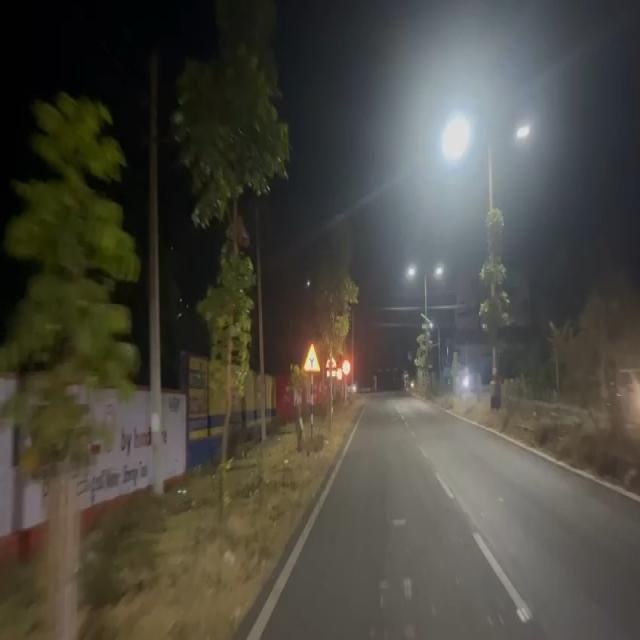bien_nguy_hiem: (300, 340, 322, 378)
